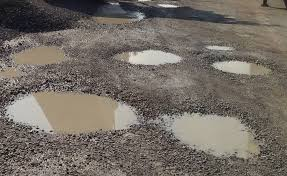pothole: (5, 84, 168, 143), (155, 101, 269, 171), (3, 38, 87, 72), (109, 42, 185, 75), (204, 55, 275, 82), (80, 4, 149, 31), (201, 43, 237, 53)
